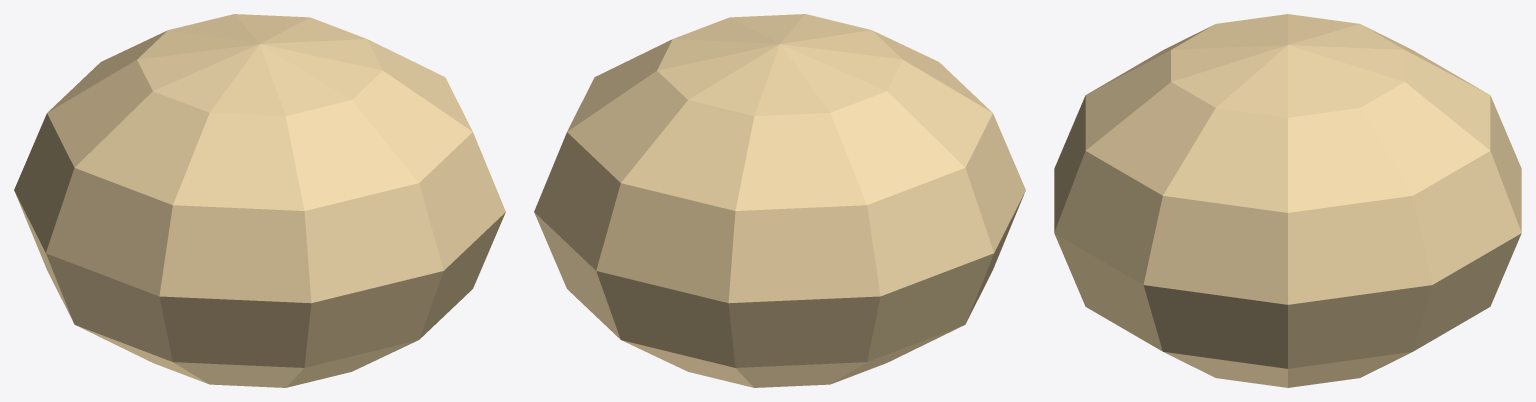
Rendered from dough_ball.glb.
The picture shows the model from 3 angles, left to right: view 1: azimuth 30°, elevation 25°; view 2: azimuth 150°, elevation 25°; view 3: azimuth 270°, elevation 25°; orthographic projection.
Parts seen in each view (by area): view 1: dough_dough; view 2: dough_dough; view 3: dough_dough.
Part boxes in pixels (x1,y1,x2,y2): dough_dough: (14, 14, 505, 387); dough_dough: (534, 14, 1025, 387); dough_dough: (1054, 14, 1521, 387).
Size of the model in its own units: 0.2 by 0.14 by 0.1902.
